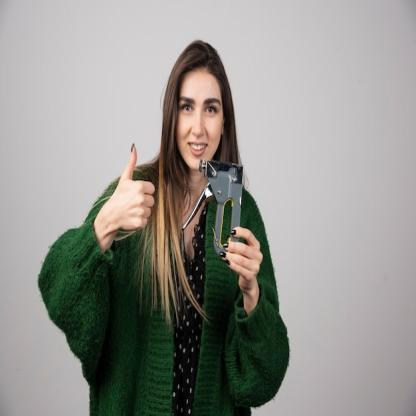thumb_up: (110, 141, 155, 235)
